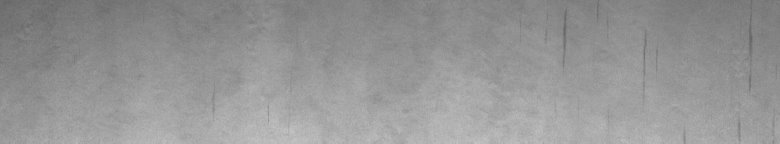ka: (561, 12, 569, 64)
